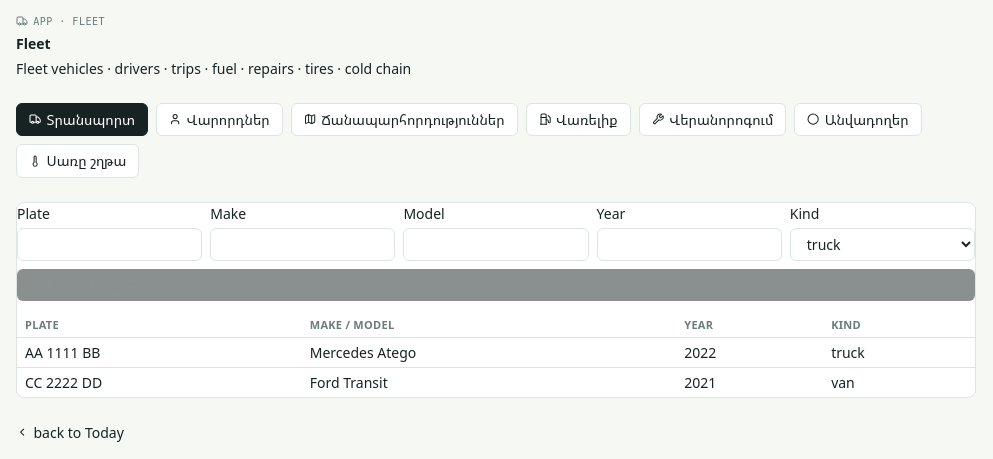
Test: Fleet — tab switching › clicking the tires tab reveals the fleet-tires-panel panel
This screenshot has width=993, height=459.
Click the tab with test id "fleet-tab-tires" at point(858, 119), box [794,102,922,136]
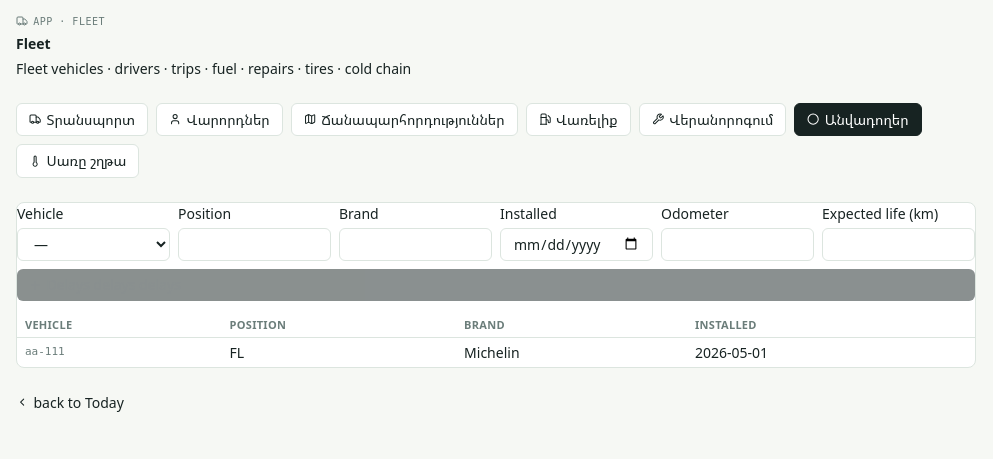
Expected: the element with test id "fleet-tires-panel" is shown, [16,202,976,368]
